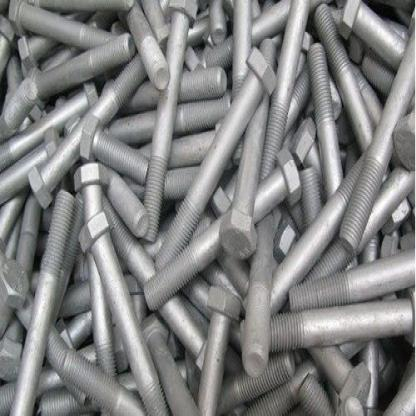FOD: (154, 48, 277, 272), (78, 212, 166, 414), (78, 115, 150, 184)
